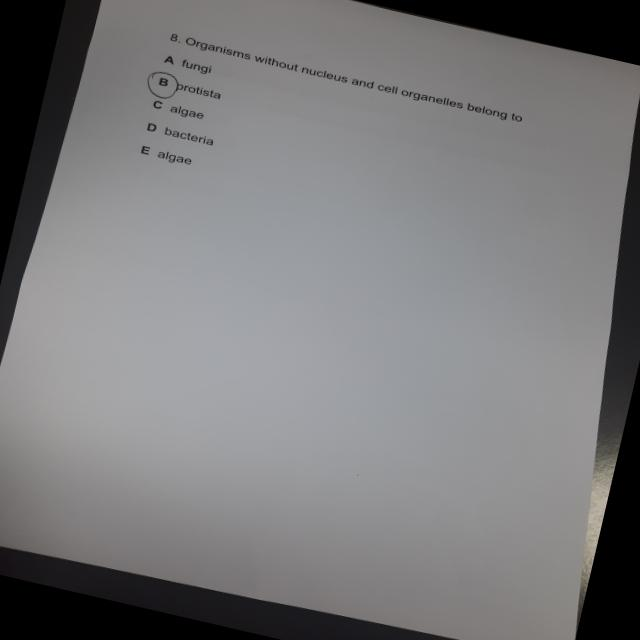B: (142, 68, 186, 104)
